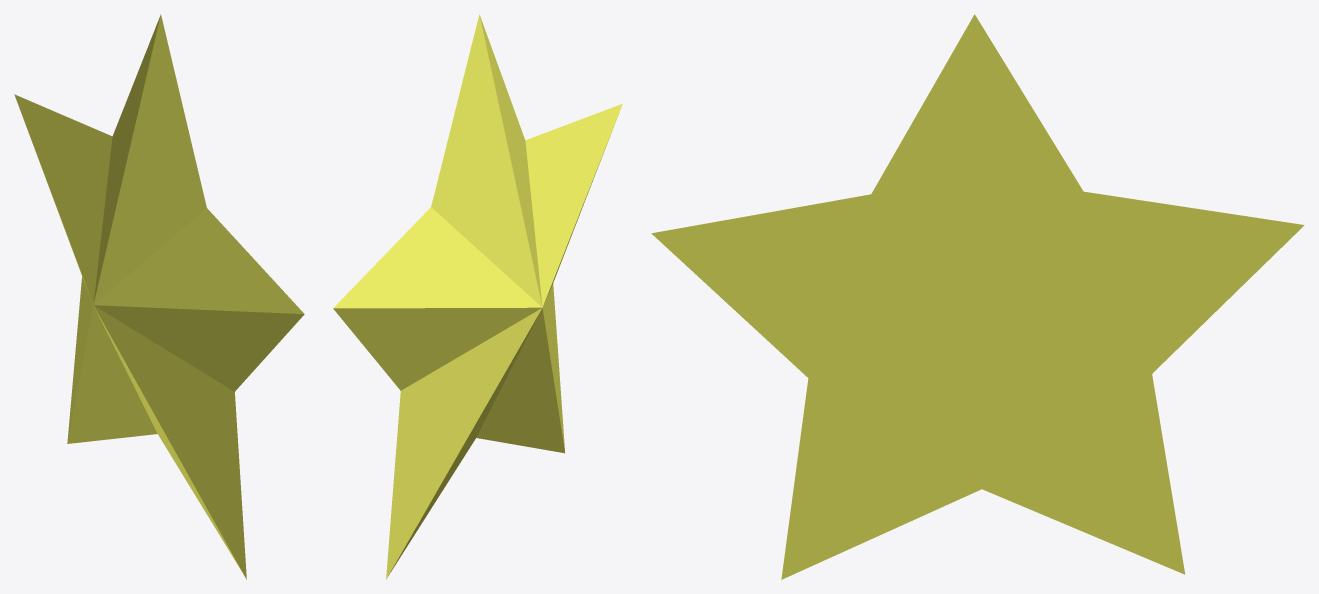
Rendered from star.obj.
3 renders of one model, left to right at view 1: azimuth 30°, elevation 25°; view 2: azimuth 150°, elevation 25°; view 3: azimuth 270°, elevation 25°, orthographic. The views are drawn at different scales.
Parts seen in each view (by area): view 1: 円柱; view 2: 円柱; view 3: 円柱.
Boxes of the visible parts, x1,y1,x2,y2 form: 円柱: [14, 14, 304, 579]; 円柱: [333, 14, 622, 579]; 円柱: [651, 14, 1304, 579].
Size of the model in its own units: 0.3828 by 2.82 by 2.95.
